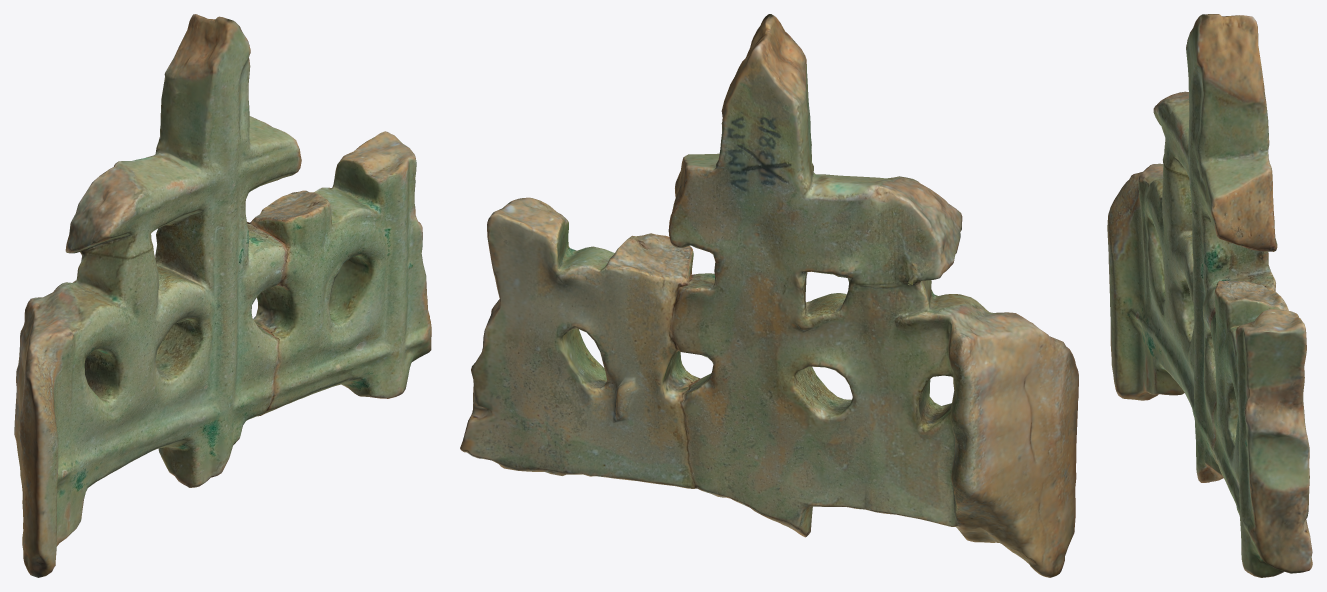
File: Plytka.glb
3 renders of one model, left to right at view 1: azimuth 30°, elevation 25°; view 2: azimuth 150°, elevation 25°; view 3: azimuth 270°, elevation 25°, orthographic. The views are drawn at different scales.
Parts seen in each view (by area): view 1: Plytka_15t; view 2: Plytka_15t; view 3: Plytka_15t.
Part boxes in pixels (x1,y1,x2,y2): Plytka_15t: (14,14,431,577); Plytka_15t: (460,14,1078,577); Plytka_15t: (1107,14,1312,577).
Size of the model in its own units: 0.1933 by 0.1878 by 0.0696.
1 material, 1 textured.
